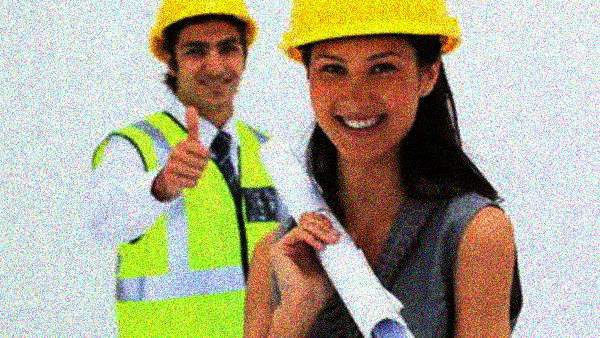helmet: (274, 1, 461, 163), (145, 1, 262, 107)
